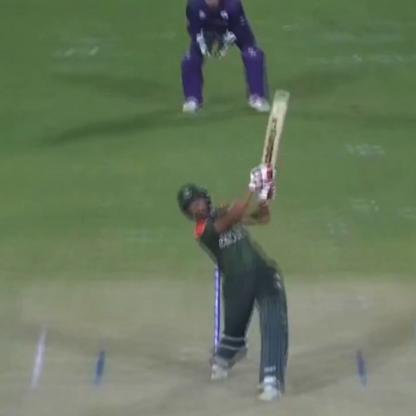bat: (256, 82, 294, 192)
pitch: (1, 316, 413, 416)
